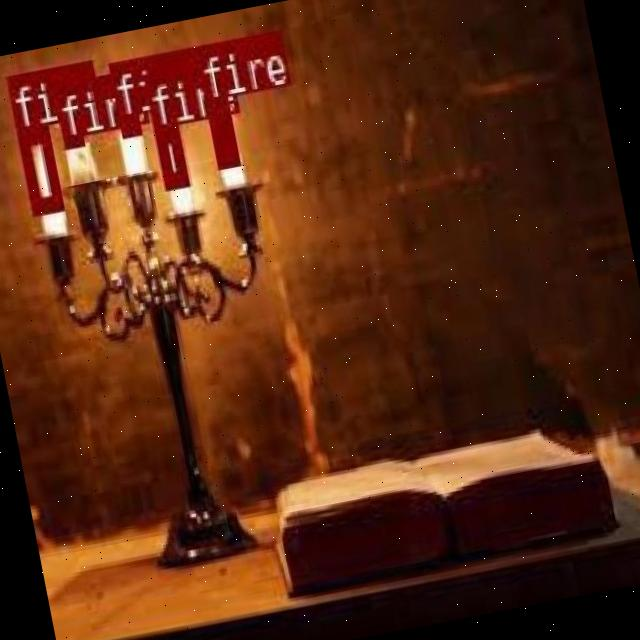fire: (16, 123, 61, 213), (108, 58, 138, 136), (152, 124, 188, 188), (205, 98, 238, 167), (52, 81, 84, 147)
